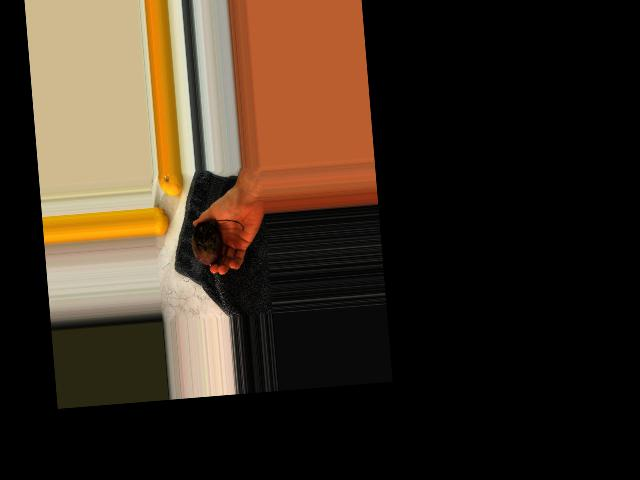beet: (190, 219, 246, 266)
